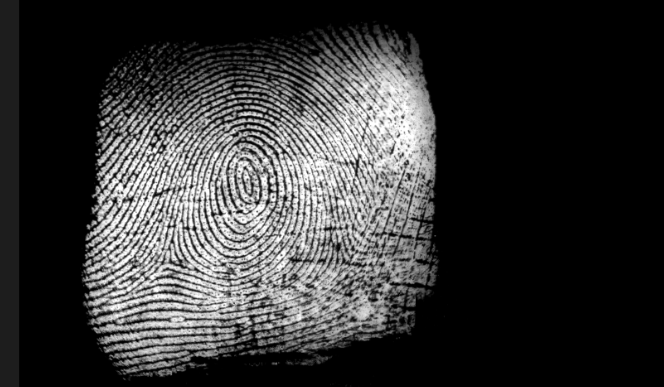nucelo: (233, 158, 262, 205)
verticilo: (337, 241, 369, 264), (159, 245, 187, 271)
